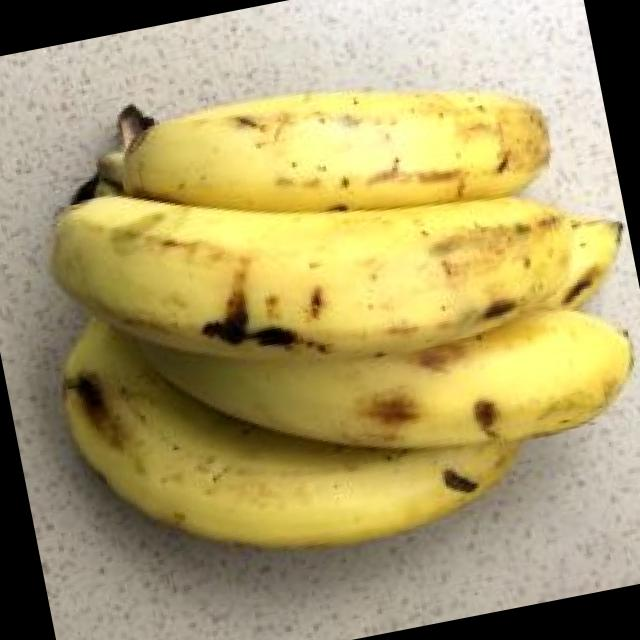banana: (45, 71, 577, 616)
